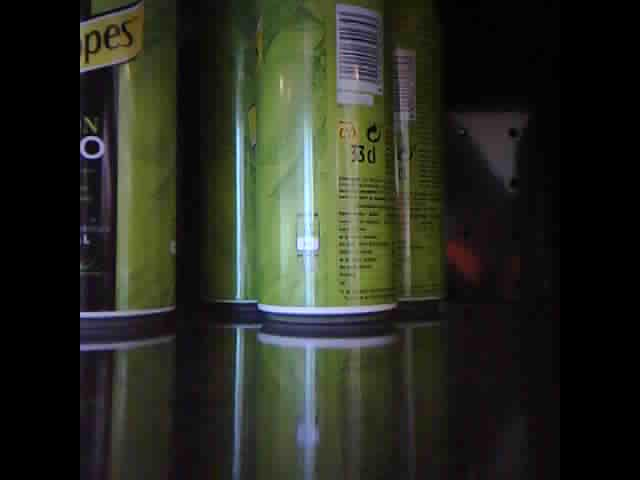schweppes: (255, 4, 399, 326), (79, 1, 177, 324), (394, 4, 447, 312), (206, 4, 256, 314)
